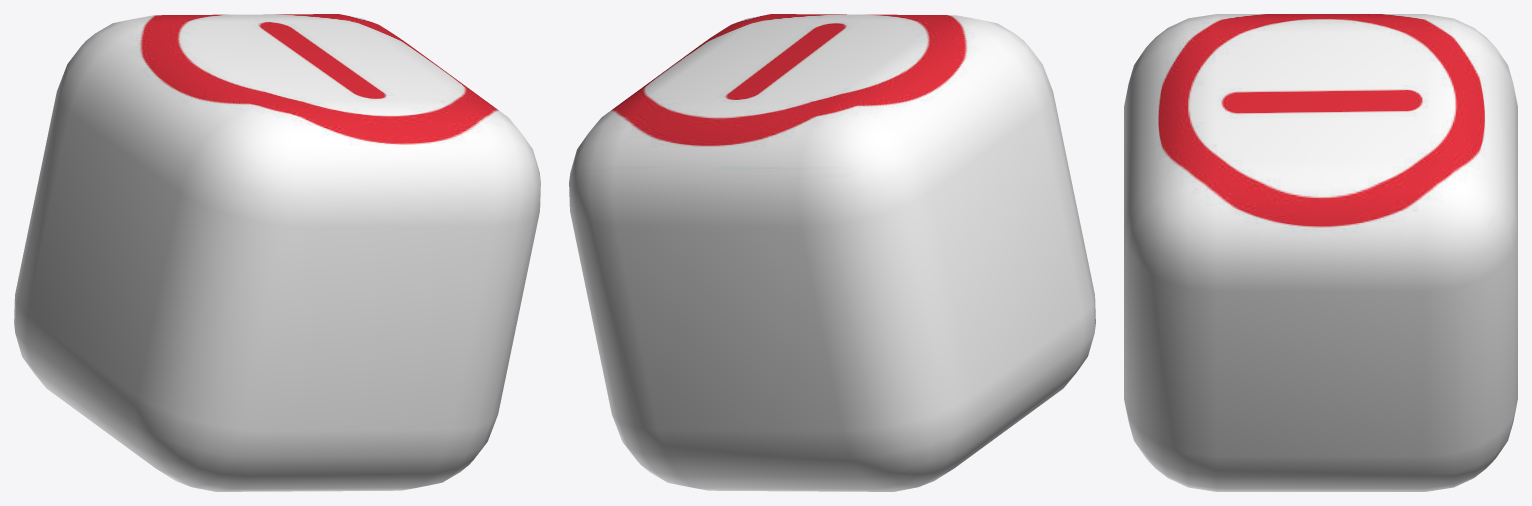
Rendered from minus.fbx.
The picture shows the model from 3 angles, left to right: view 1: azimuth 30°, elevation 25°; view 2: azimuth 150°, elevation 25°; view 3: azimuth 270°, elevation 25°; orthographic projection. The views are drawn at different scales.
Visible parts, largest first — view 1: Cube.013; view 2: Cube.013; view 3: Cube.013.
Boxes of the visible parts, x1,y1,x2,y2 form: Cube.013: (14, 14, 540, 491); Cube.013: (569, 14, 1095, 491); Cube.013: (1124, 14, 1517, 491).
Size of the model in its own units: 30.92 by 30.92 by 28.06.
